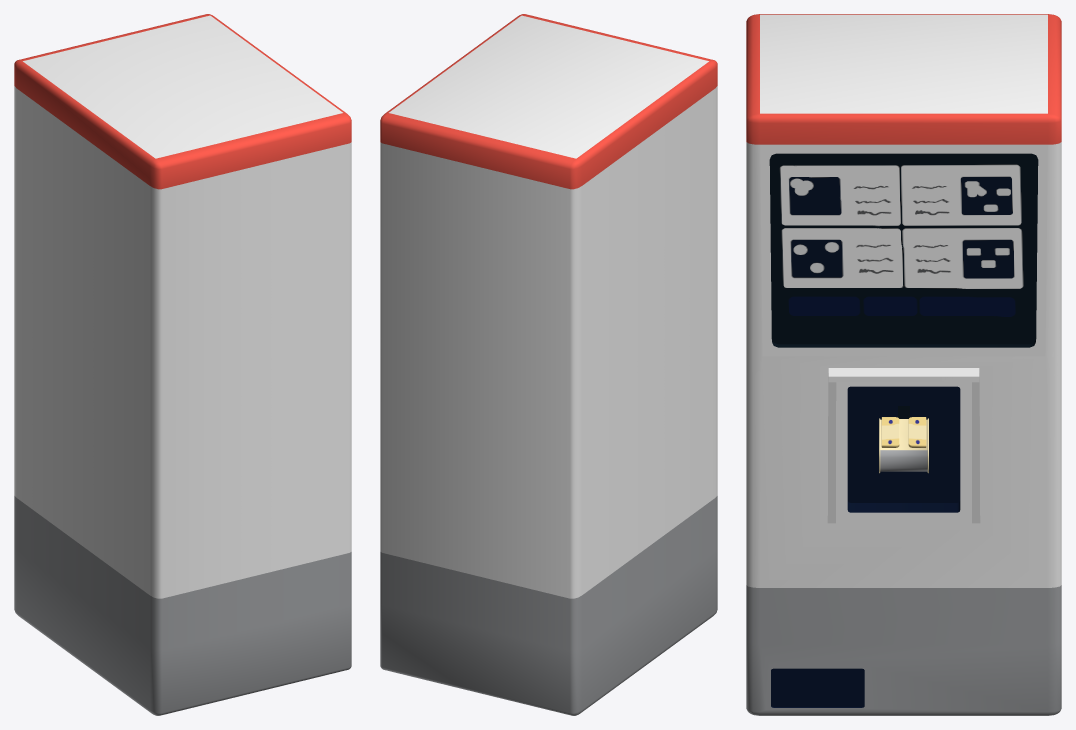
Rendered from Ticeket.fbx.
The picture shows the model from 3 angles, left to right: view 1: azimuth 30°, elevation 25°; view 2: azimuth 150°, elevation 25°; view 3: azimuth 270°, elevation 25°; orthographic projection. The views are drawn at different scales.
Parts seen in each view (by area): view 1: TiceketMachine; view 2: TiceketMachine; view 3: TiceketMachine.
Boxes of the visible parts, x1=… form: TiceketMachine: x1=14, y1=14, x2=351, y2=715; TiceketMachine: x1=380, y1=14, x2=717, y2=715; TiceketMachine: x1=746, y1=14, x2=1061, y2=715.
Bounding box in the file's own units: 3.36 × 8 × 3.8.
